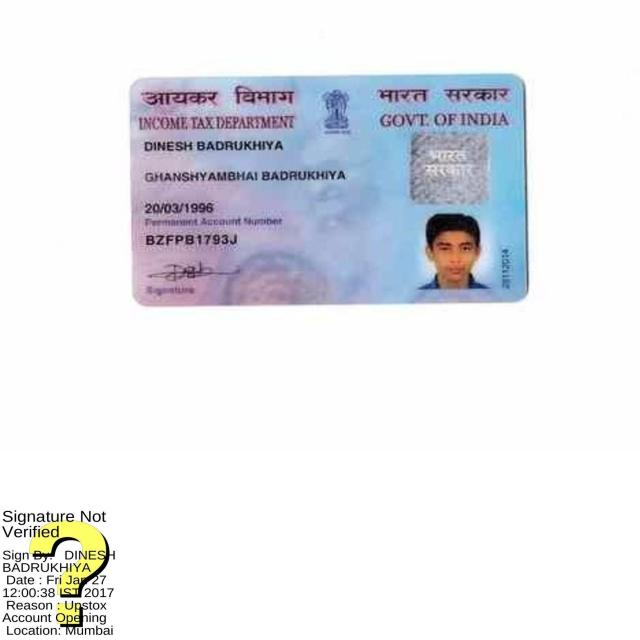pan_card: (129, 78, 520, 300)
